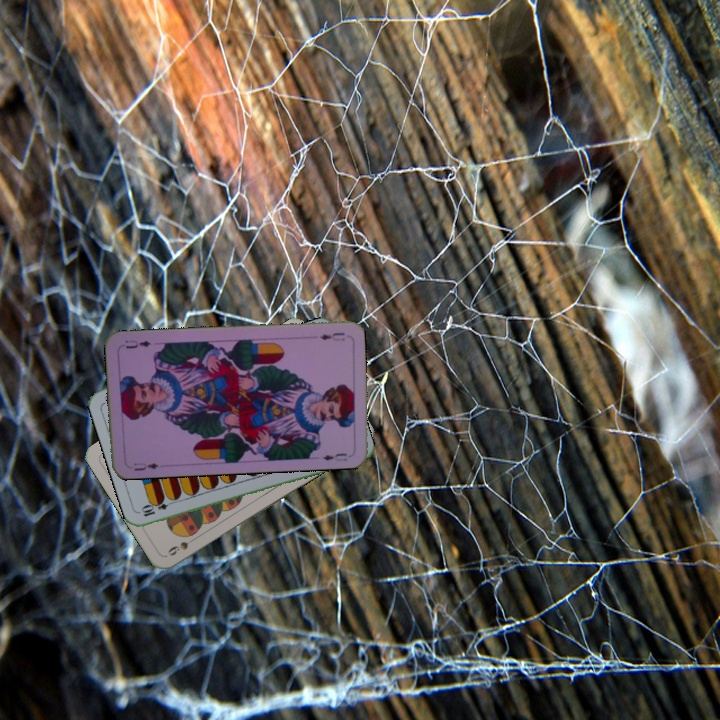E10: (138, 496, 178, 519)
EU: (130, 458, 161, 473), (316, 328, 347, 343)
S9: (164, 532, 200, 558)
